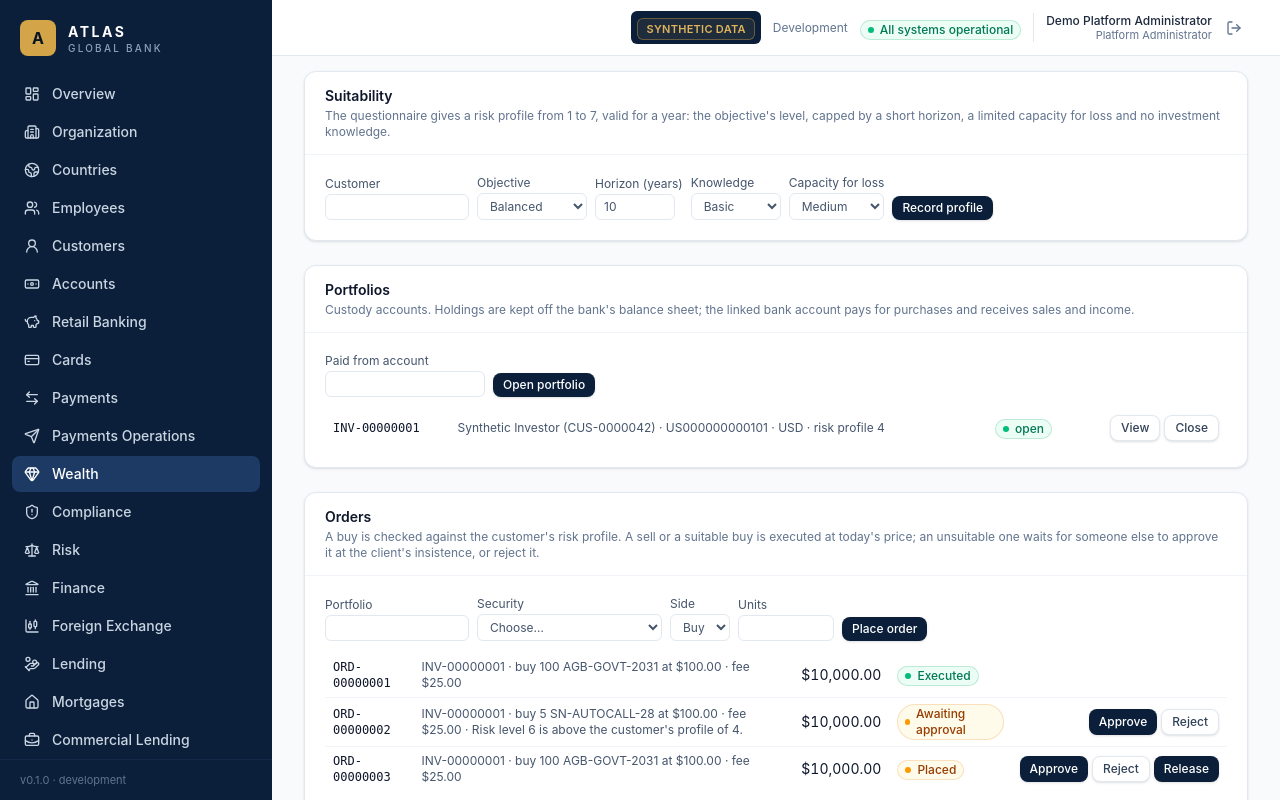
Test case: Wealth page › shows securities, portfolios with their valuation, orders and income
(page scrolled)
Expected: the text "INV-00000001" is shown, [325,409,450,447]
Expected: the table named "Portfolios" shows "Synthetic Investor (CUS-0000042) · US000000000101 · USD · risk profile 4", [325,409,1227,447]
Click the button with aria-label "View INV-00000001" at {"x": 1135, "y": 428}, box [1110,415,1160,441]
(page scrolled)
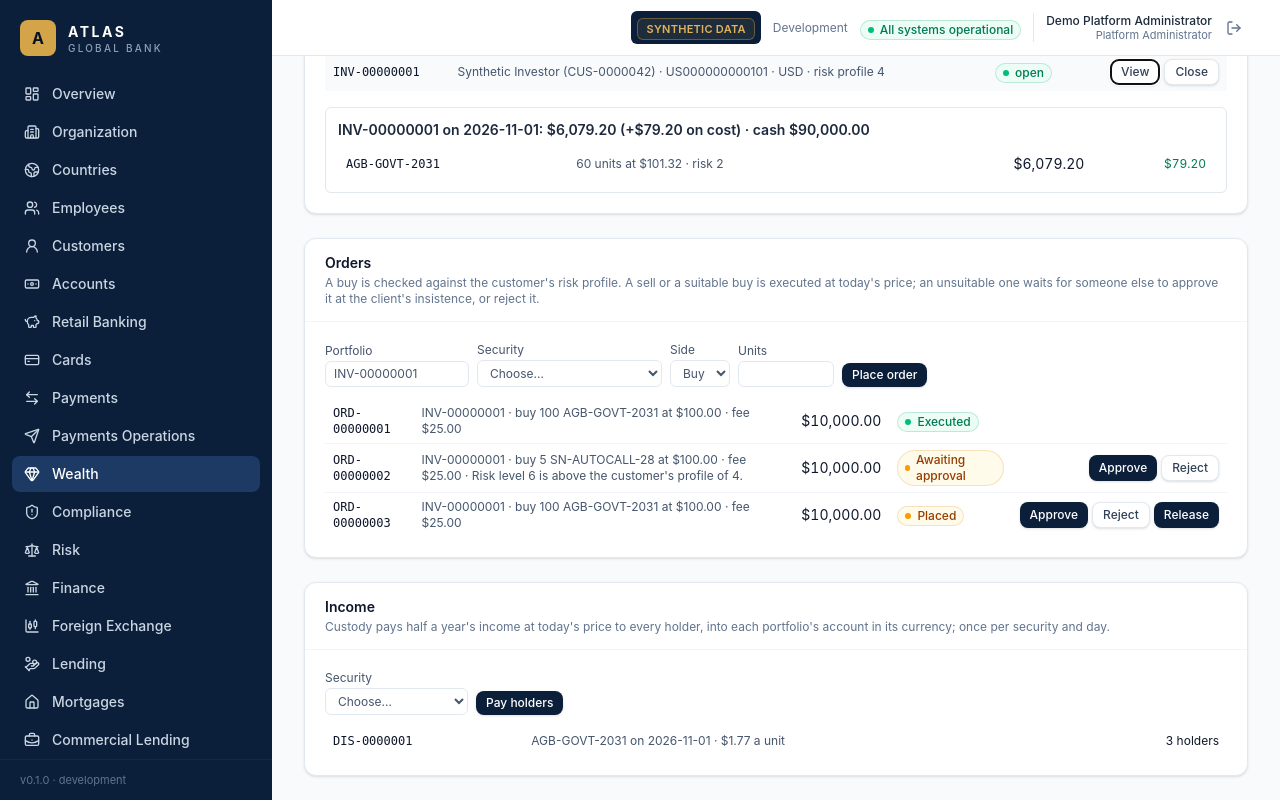
Result: the table named "Holdings" shows "60 units at $101.32 · risk 2" at [338,148,1214,180]
Result: the element named "Valuation of INV-00000001" shows "$6,079.20" at [547,121,616,138]
Result: the table named "Income distributions" shows "AGB-GOVT-2031 on 2026-11-01 · $1.77 a unit" at [325,727,1227,755]
